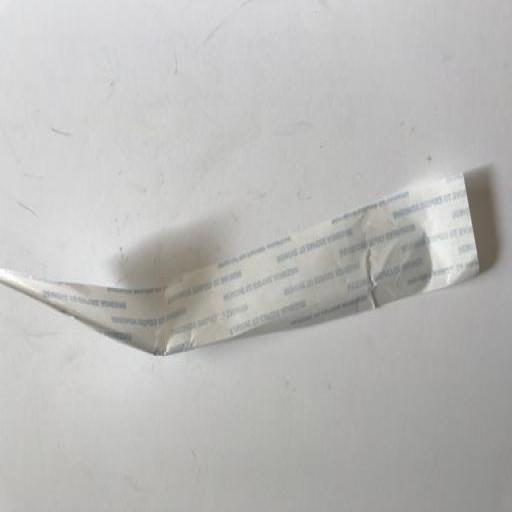waste: (0, 172, 496, 365)
